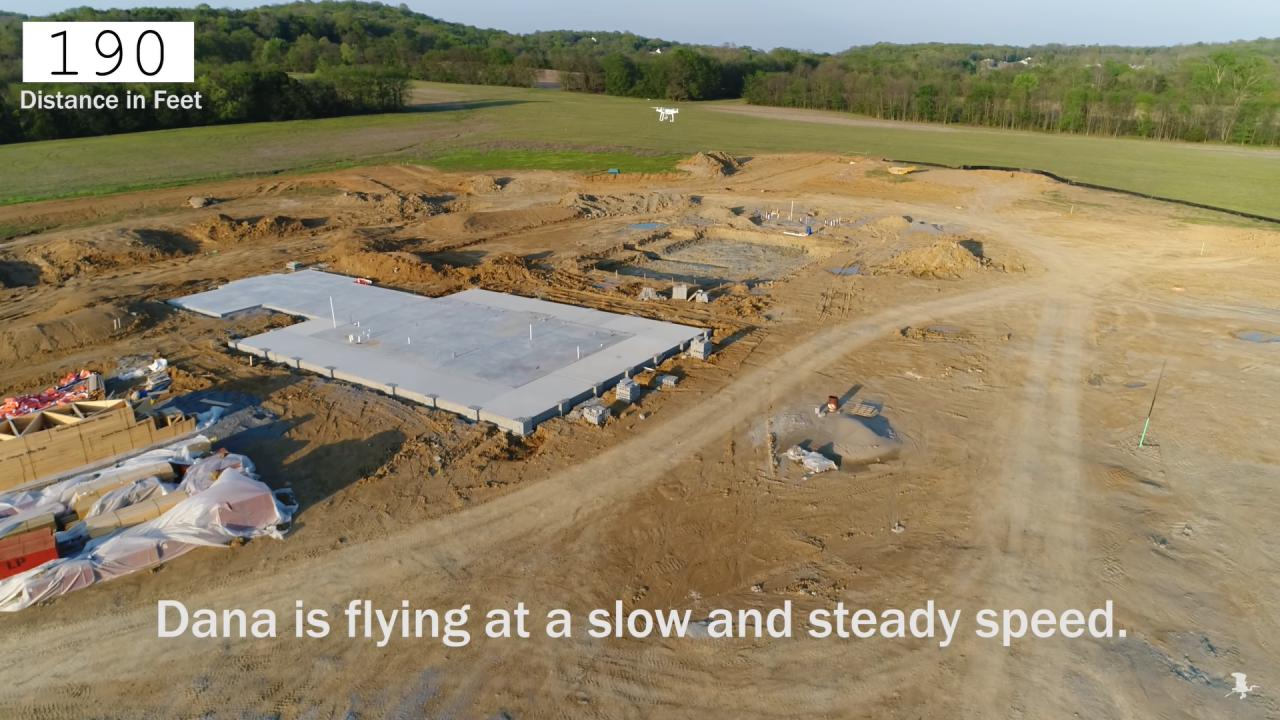Drone: (647, 100, 685, 130)
